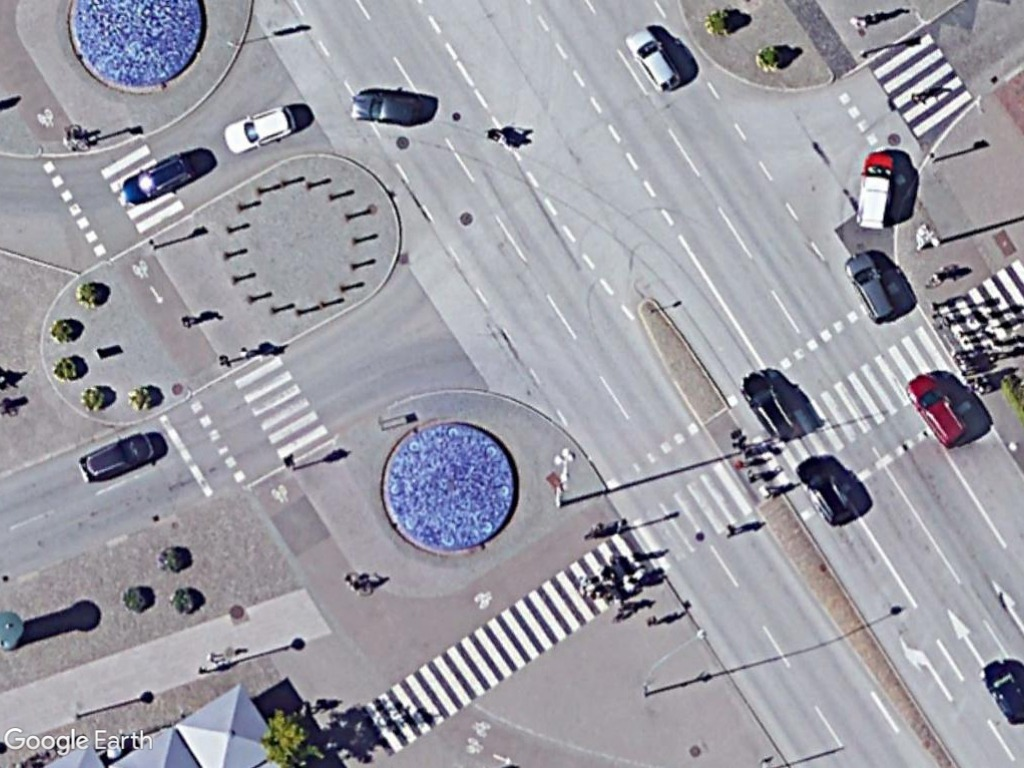car: (902, 367, 974, 450), (791, 452, 862, 531), (116, 147, 196, 209), (843, 245, 901, 328), (75, 428, 157, 485), (622, 23, 685, 97), (739, 371, 801, 446), (221, 102, 299, 156), (345, 89, 427, 130)
van: (852, 148, 898, 233)
